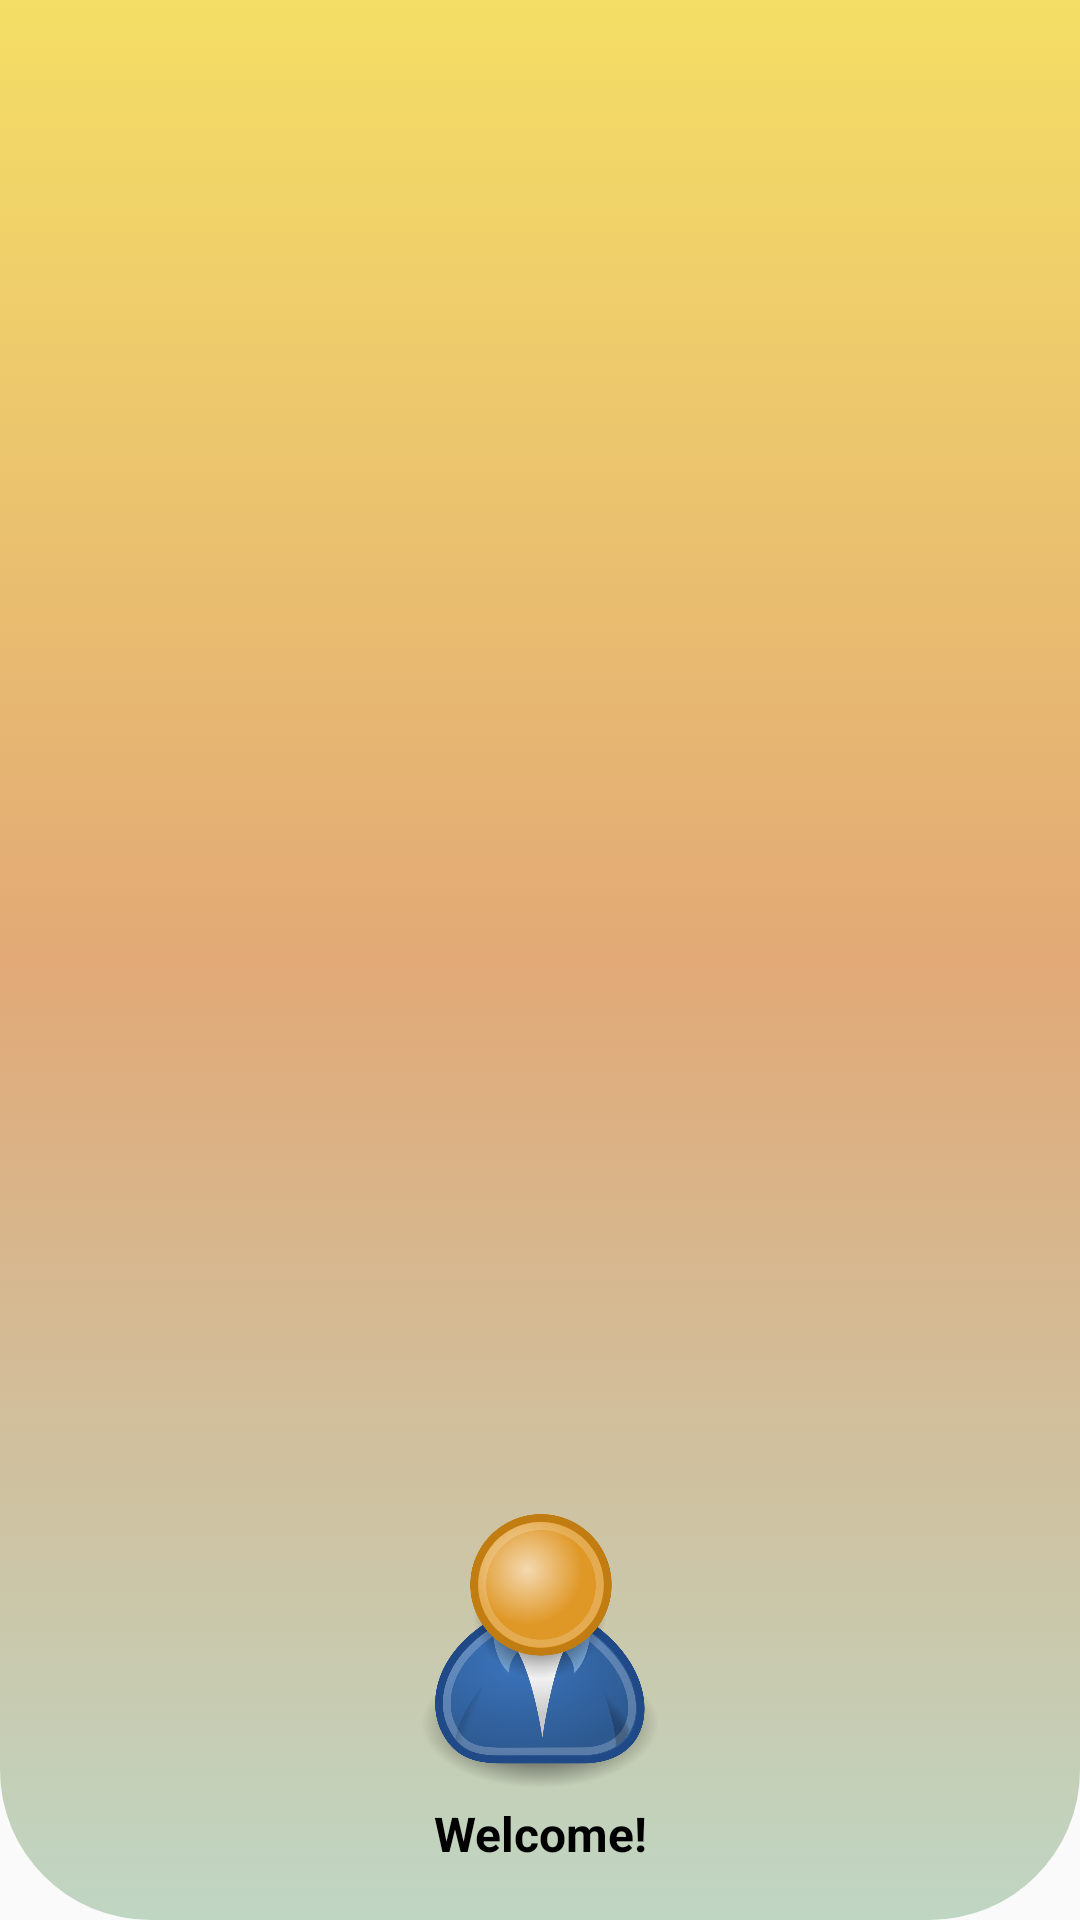

Where to tap for icons on this 1080px x 1920px app screen, as (x,y):
user: (540,1648)
